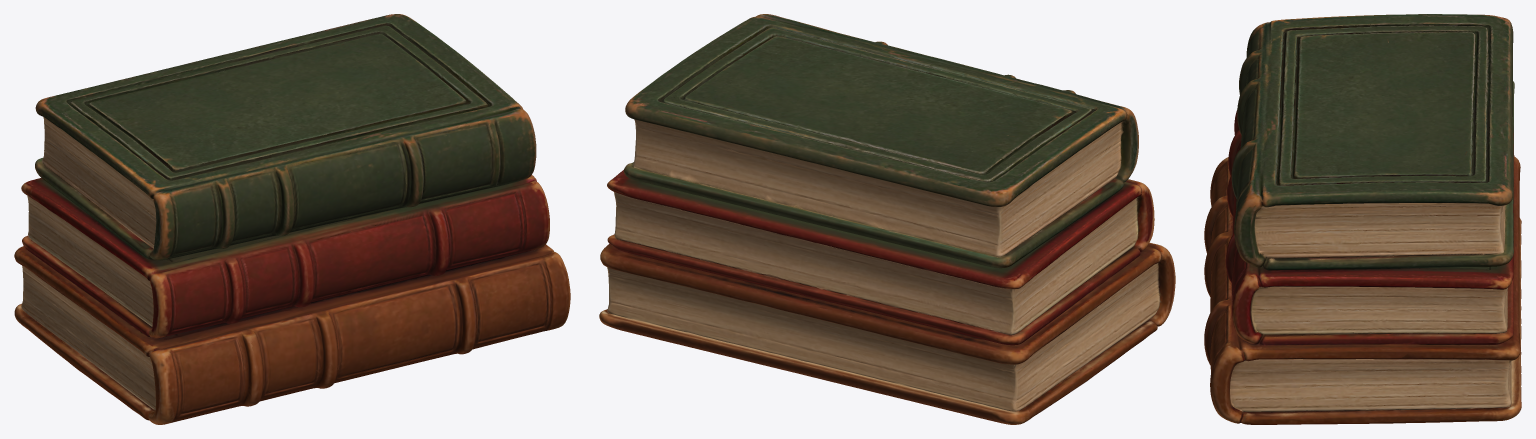
File: field_books.glb
The picture shows the model from 3 angles, left to right: view 1: azimuth 30°, elevation 25°; view 2: azimuth 150°, elevation 25°; view 3: azimuth 270°, elevation 25°; orthographic projection. The views are drawn at different scales.
Parts seen in each view (by area): view 1: tripo_node_c447aa8f-015e-4bb3-91fd-6d3b5d4b7511; view 2: tripo_node_c447aa8f-015e-4bb3-91fd-6d3b5d4b7511; view 3: tripo_node_c447aa8f-015e-4bb3-91fd-6d3b5d4b7511.
Part boxes in pixels (left/top/right/bottom): tripo_node_c447aa8f-015e-4bb3-91fd-6d3b5d4b7511: left=14, top=14, right=570, bottom=424; tripo_node_c447aa8f-015e-4bb3-91fd-6d3b5d4b7511: left=599, top=14, right=1175, bottom=424; tripo_node_c447aa8f-015e-4bb3-91fd-6d3b5d4b7511: left=1204, top=14, right=1521, bottom=424.
Bounding box in the file's own units: 0.9804 × 0.5086 × 0.6564.
1 material, 1 textured.
